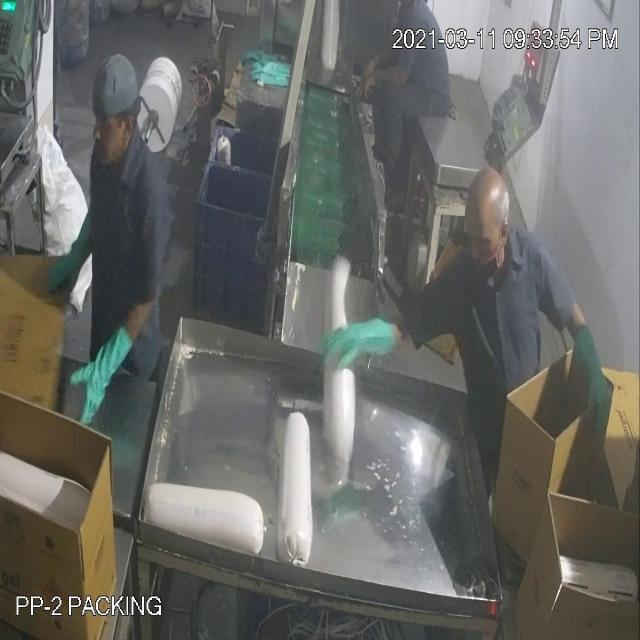Gloves: (48, 58, 593, 382)
